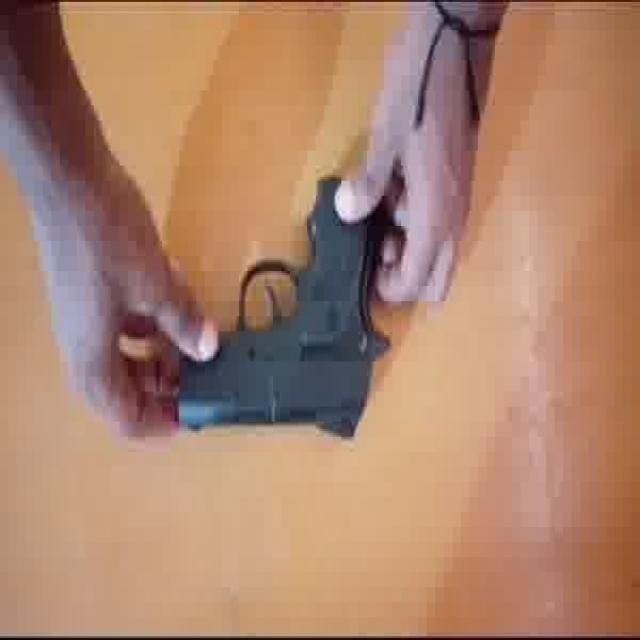weapon: (172, 162, 401, 442)
